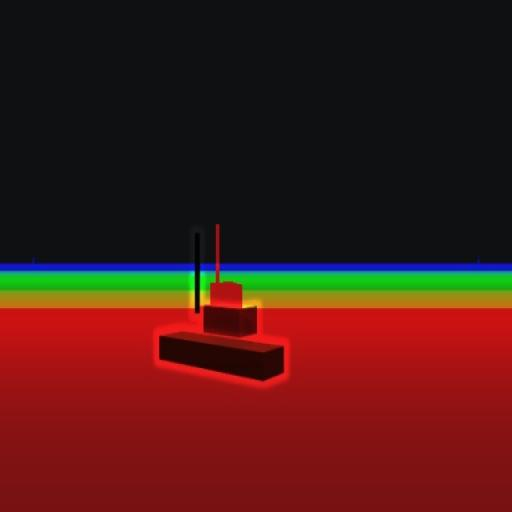fishing_boat: (159, 248, 287, 382)
